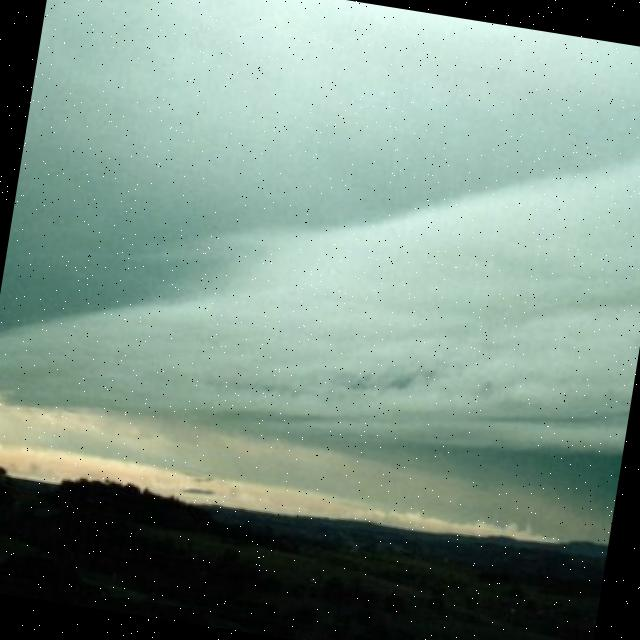St: (1, 40, 640, 523)
